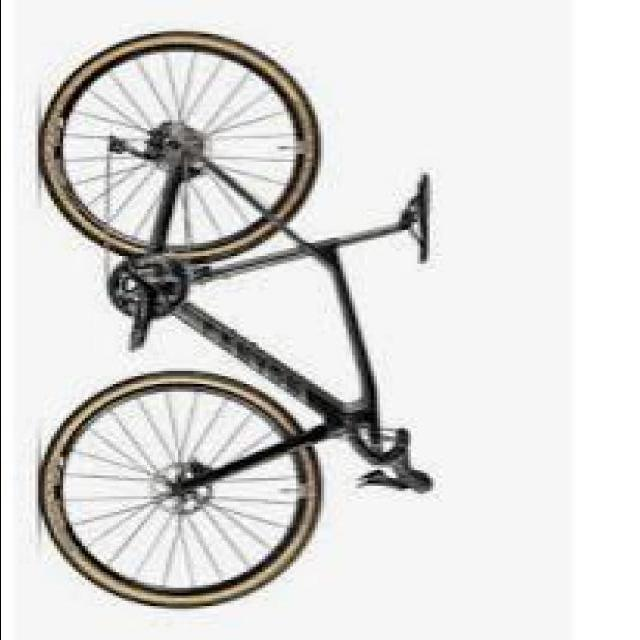bicycle: (44, 66, 436, 620)
